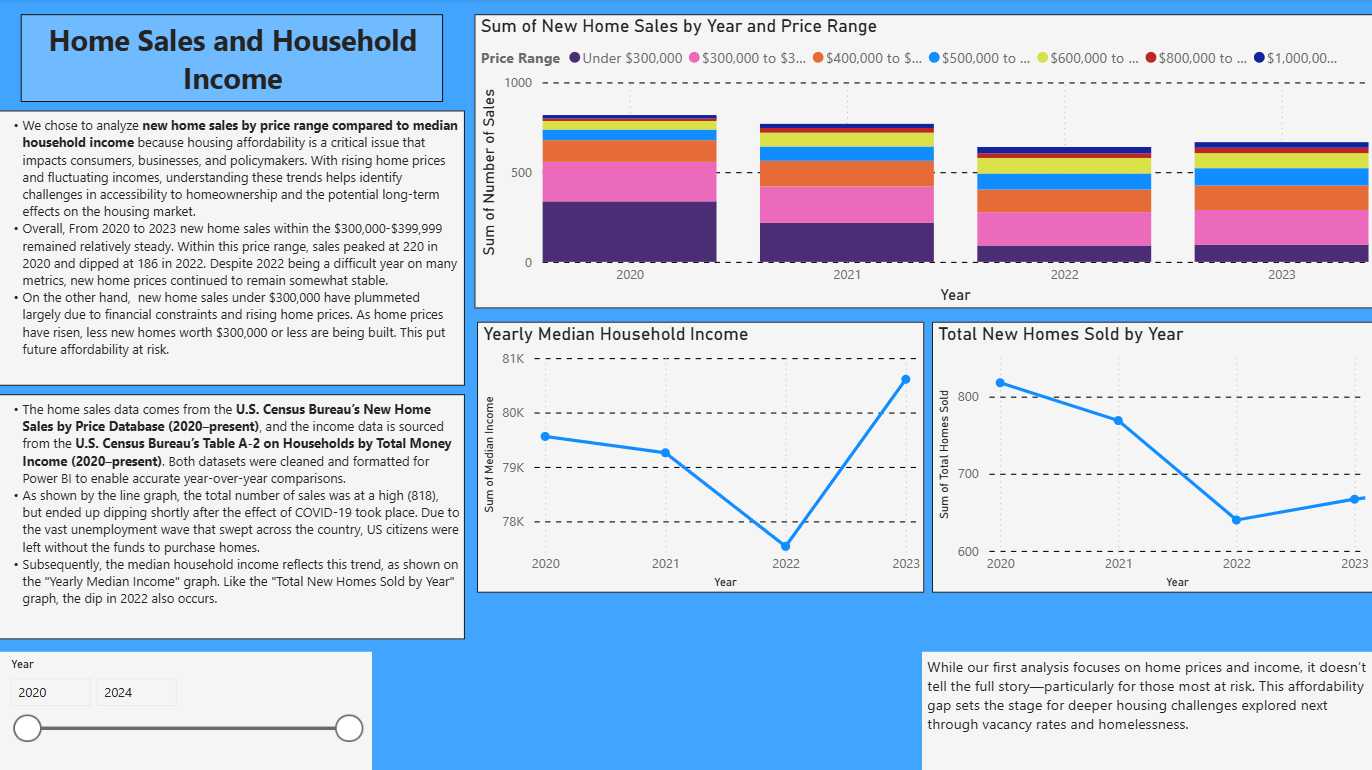

This screenshot's page, from the dashboard's own definition file:
{"tool":"powerbi","page":{"name":"Affordability and Home Sales Trends","canvas":[1280,720],"ordinal":1},"visuals":[{"type":"lineChart","title":"Yearly Median Household Income","fields":{"Category":["Sheet1 (2).Year"],"Y":["Sum(Sheet1 (2).Median Income)"]},"box":[444.4,453.3,417.8,266.7],"z":0},{"type":"textbox","box":[2.3,372.1,434.9,224.4],"z":1000},{"type":"lineChart","title":"Total New Homes Sold by Year","fields":{"Category":["Sheet1.Year"],"Y":["Sum(Sheet1.Total Homes Sold)"]},"box":[869.8,453.5,410.5,266.3],"z":2000},{"type":"columnChart","title":"Sum of New Home Sales by Year and Price Range","fields":{"Category":["Price Range & # of Sales.Year"],"Y":["Sum(Price Range & # of Sales.Number of Sales)"],"Series":["Price Range & # of Sales.Price Range Rank"]},"box":[444.2,0,593,437.2],"z":3000},{"type":"textbox","box":[1.2,98.8,434.9,261.6],"z":4000},{"type":"textbox","box":[36,5.8,366.3,81.4],"z":5000},{"type":"textbox","box":[0,604.7,436,115.1],"z":6000},{"type":"textbox","box":[1046.5,87.2,233.7,303.5],"z":7000}]}

Visuals, with their boxes in screenshot pixels (x1, y1, x2, y2), scaled from the page's 1280x720 canvas onto the 1372x770 screenshot:
"Yearly Median Household Income" lineChart: rect(476, 485, 924, 769)
textbox: rect(2, 398, 469, 638)
"Total New Homes Sold by Year" lineChart: rect(932, 485, 1371, 769)
"Sum of New Home Sales by Year and Price Range" columnChart: rect(476, 0, 1112, 468)
textbox: rect(1, 106, 467, 385)
textbox: rect(39, 6, 431, 93)
textbox: rect(0, 647, 467, 769)
textbox: rect(1122, 93, 1371, 418)
